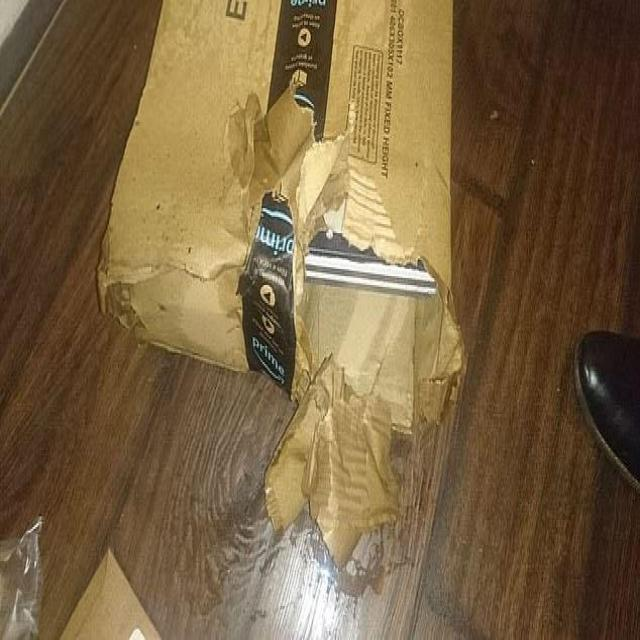wet: (100, 5, 463, 436)
